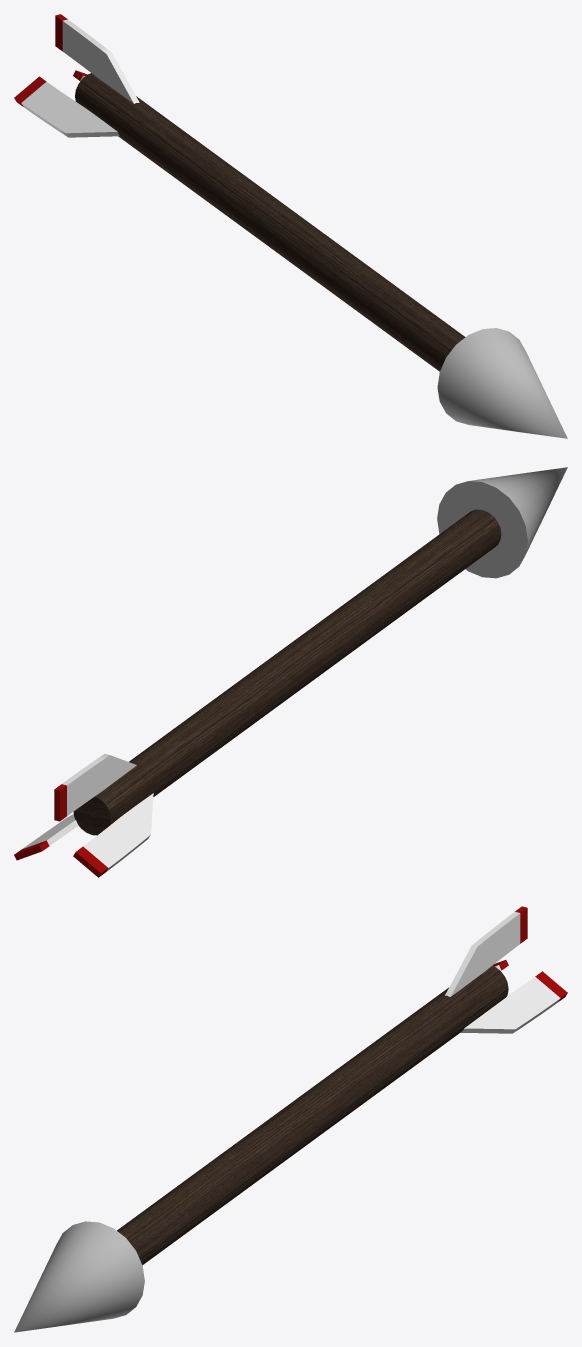
The model's file is pijl v0.2.fbx.
3 views of the same model, one above another, from view 1: azimuth 30°, elevation 25°; view 2: azimuth 150°, elevation 25°; view 3: azimuth 330°, elevation 25° (orthographic).
Visible parts, largest first — view 1: pCylinder1, pCone1, pasted__pCube1, pCube1; view 2: pCylinder1, pCone1, pasted__pCube1 (×2), pCube1; view 3: pCylinder1, pCone1, pasted__pCube1, pCube1.
Part boxes in pixels (bbox=[...]): pCylinder1: bbox=[75, 73, 465, 371]; pCone1: bbox=[437, 328, 567, 438]; pasted__pCube1: bbox=[14, 76, 119, 137]; pCube1: bbox=[55, 14, 139, 103]; pCylinder1: bbox=[73, 509, 501, 835]; pCone1: bbox=[437, 467, 567, 578]; pasted__pCube1 (×2): bbox=[14, 793, 153, 877]; pCube1: bbox=[54, 754, 136, 821]; pCylinder1: bbox=[117, 965, 508, 1265]; pCone1: bbox=[14, 1221, 144, 1332]; pasted__pCube1: bbox=[460, 971, 567, 1033]; pCube1: bbox=[445, 906, 527, 996].
Size of the model in its own units: 0.904 by 0.9396 by 8.8.
Materials: 8 (1 with a texture image).
